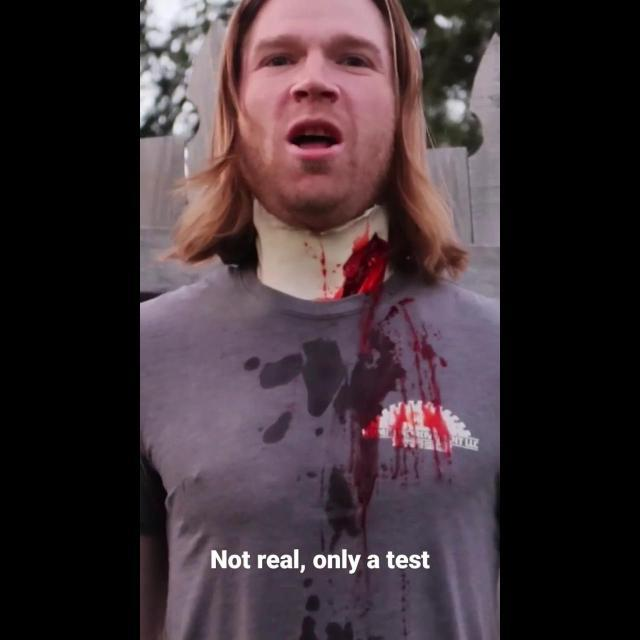blood: (333, 290, 452, 561), (331, 234, 388, 299), (352, 561, 386, 617), (313, 244, 337, 301)
